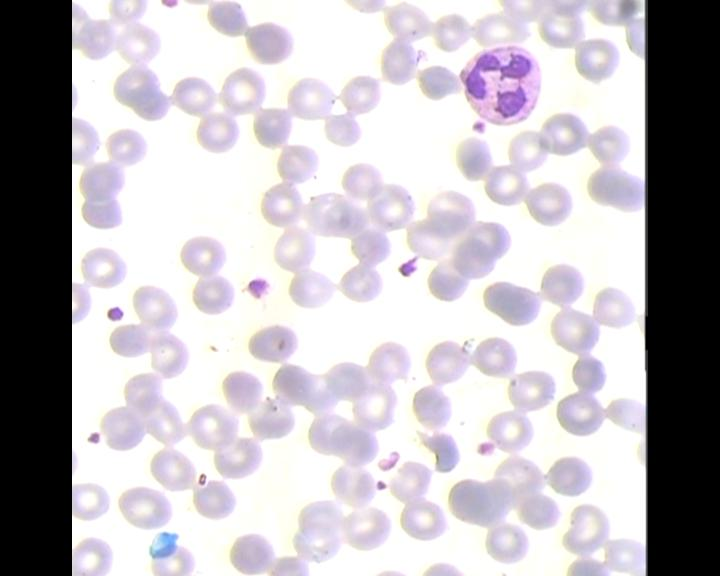neut: (456, 40, 545, 129)
